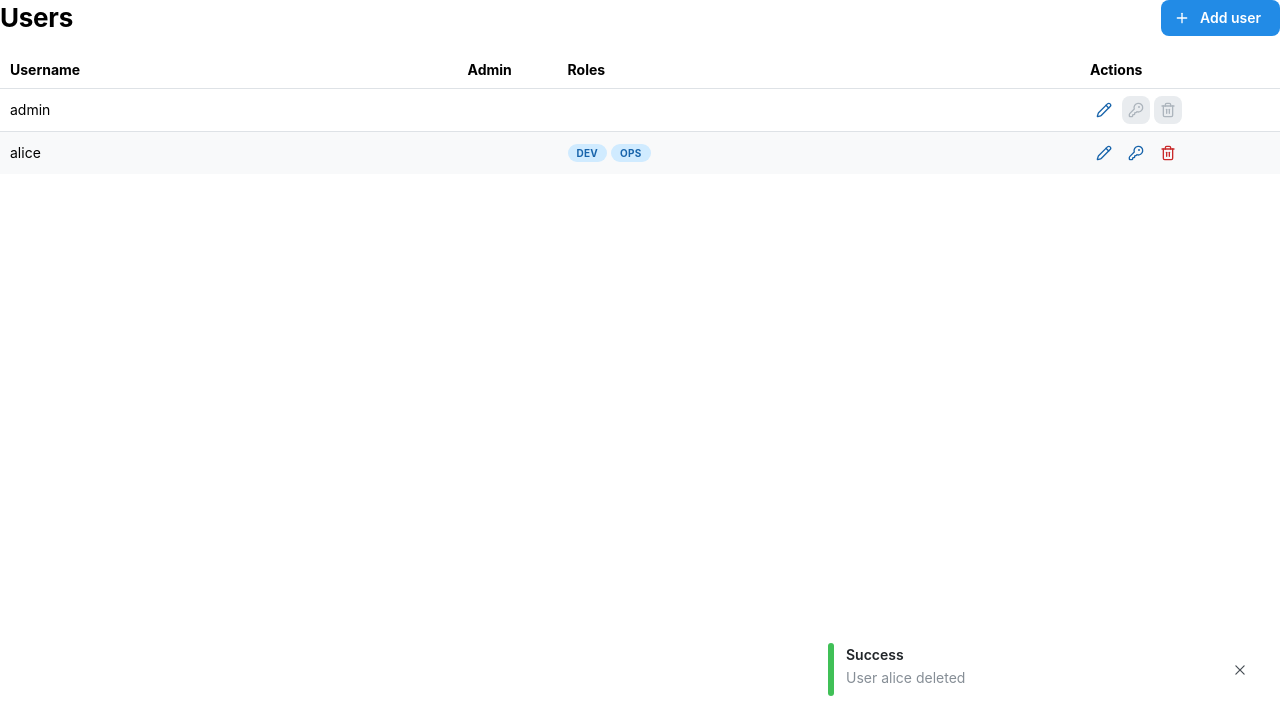
UsersPage › opens the Drawer in edit mode with disabled username and no password field
This screenshot has width=1280, height=720.
What coordinates should you click on to do the following:
click the button named "Edit alice"
I would click on:
 (1104, 153)
Its box is [1090,139,1118,167].
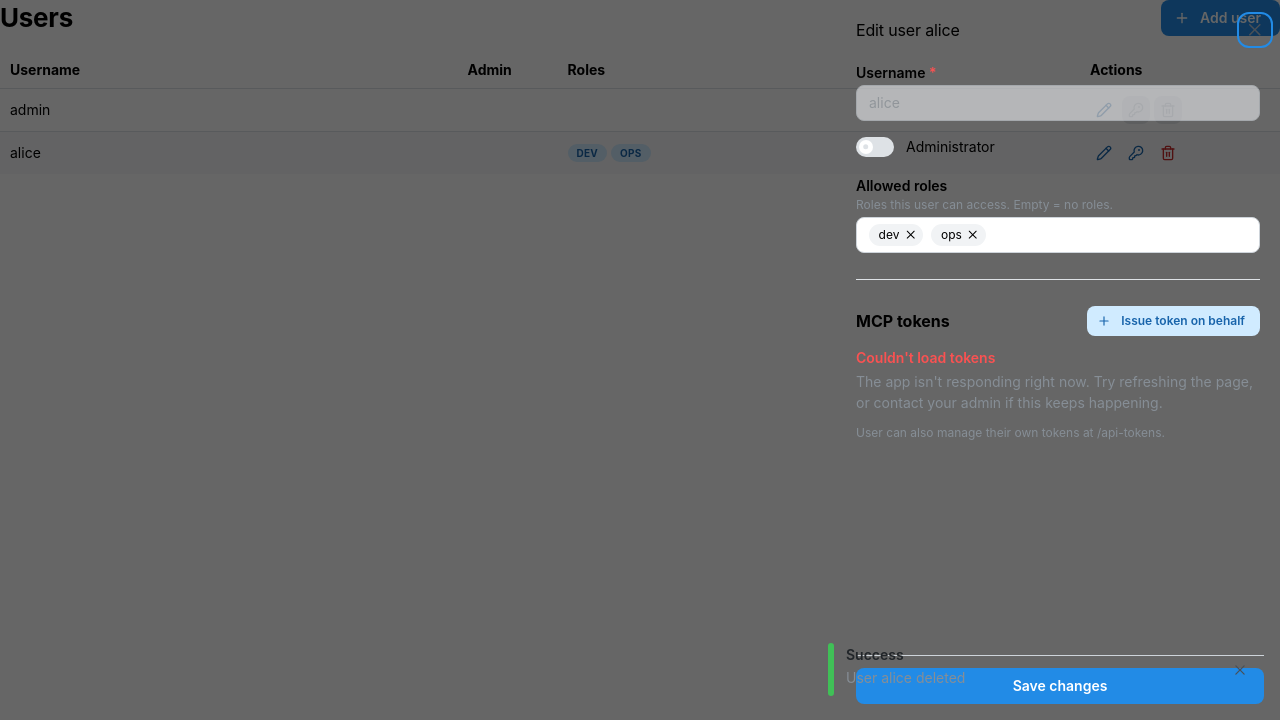
Result: the dialog "Edit user alice" is shown at [840,0,1279,719]
Result: the field labelled "Username *" is disabled at [856,85,1260,121]
Result: the field labelled "Username *" holds "alice" at [856,85,1260,121]
